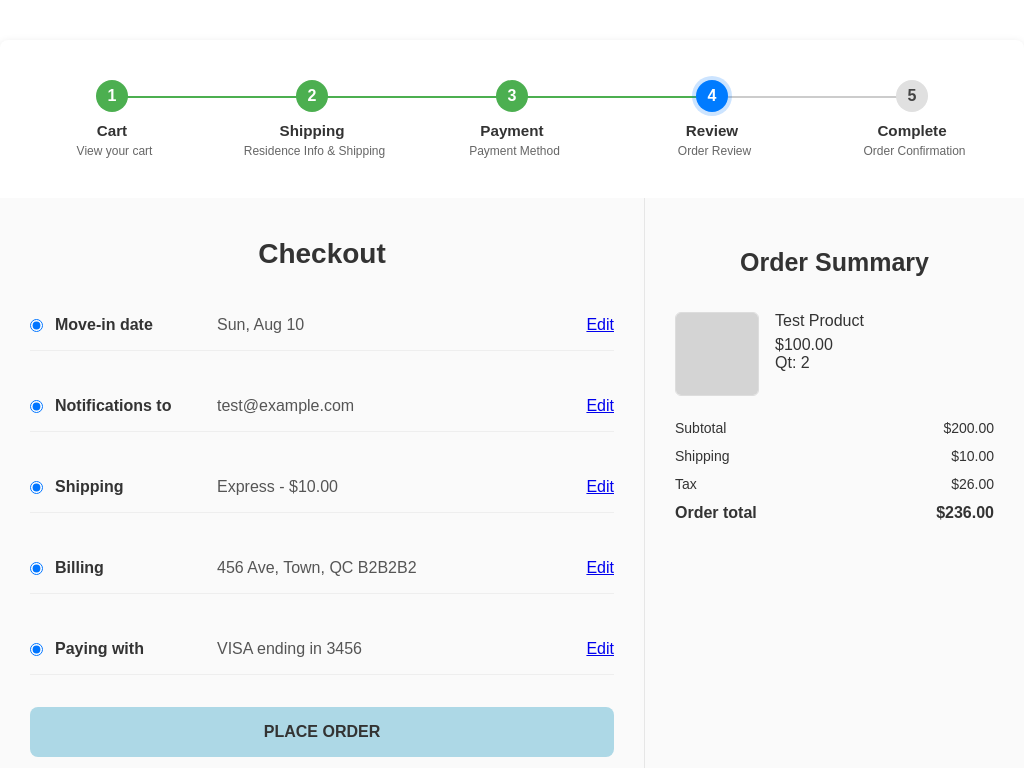
ReviewPage full coverage › disables button during submission
What coordinates should you click on to do the following:
click the button "PLACE ORDER"
I would click on:
 (322, 732)
Its box is [30,707,614,757].
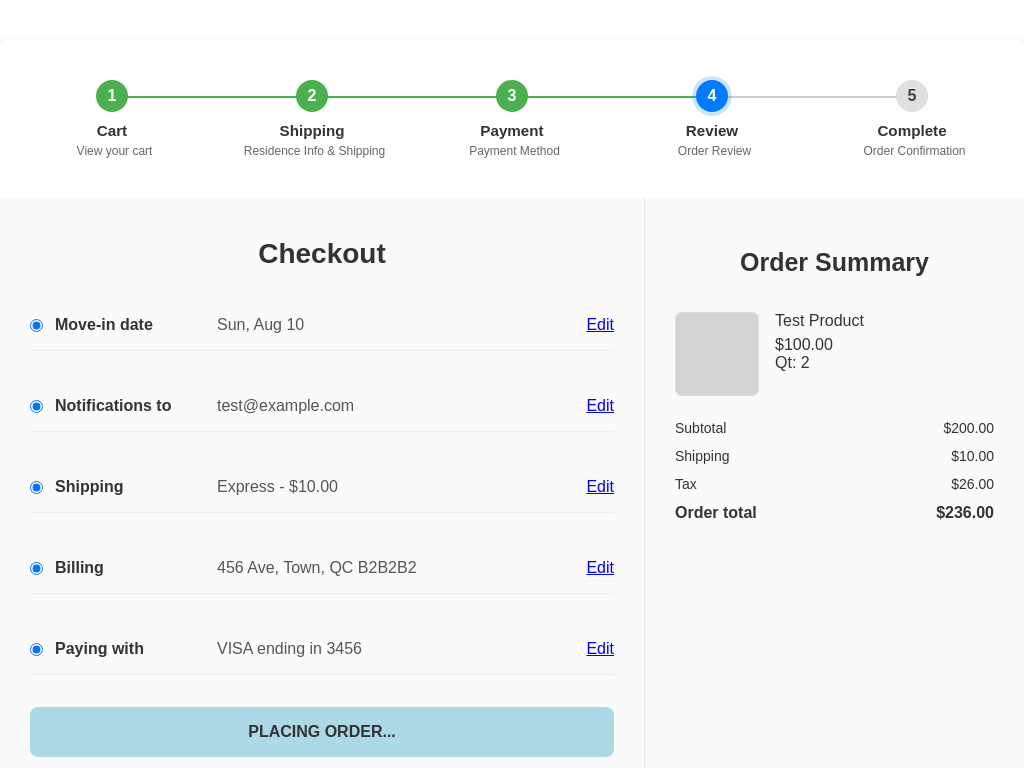
Expected: the button "PLACING ORDER..." is shown, [30,707,614,757]
